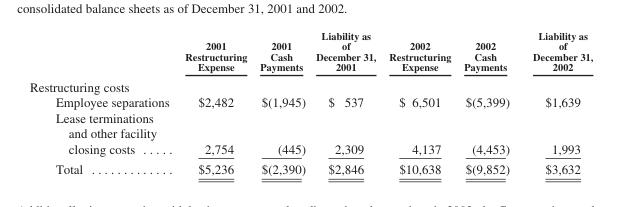table: (29, 29, 592, 176)
table column: (29, 29, 176, 176), (176, 29, 252, 176), (381, 29, 456, 176), (520, 29, 592, 176), (310, 29, 381, 176), (456, 29, 520, 176), (252, 29, 310, 176)
table column header: (29, 29, 592, 75)
table projected row header: (29, 75, 592, 94)
table row: (29, 109, 592, 158), (29, 29, 592, 75), (29, 75, 592, 94), (29, 158, 592, 176), (29, 94, 592, 109)
